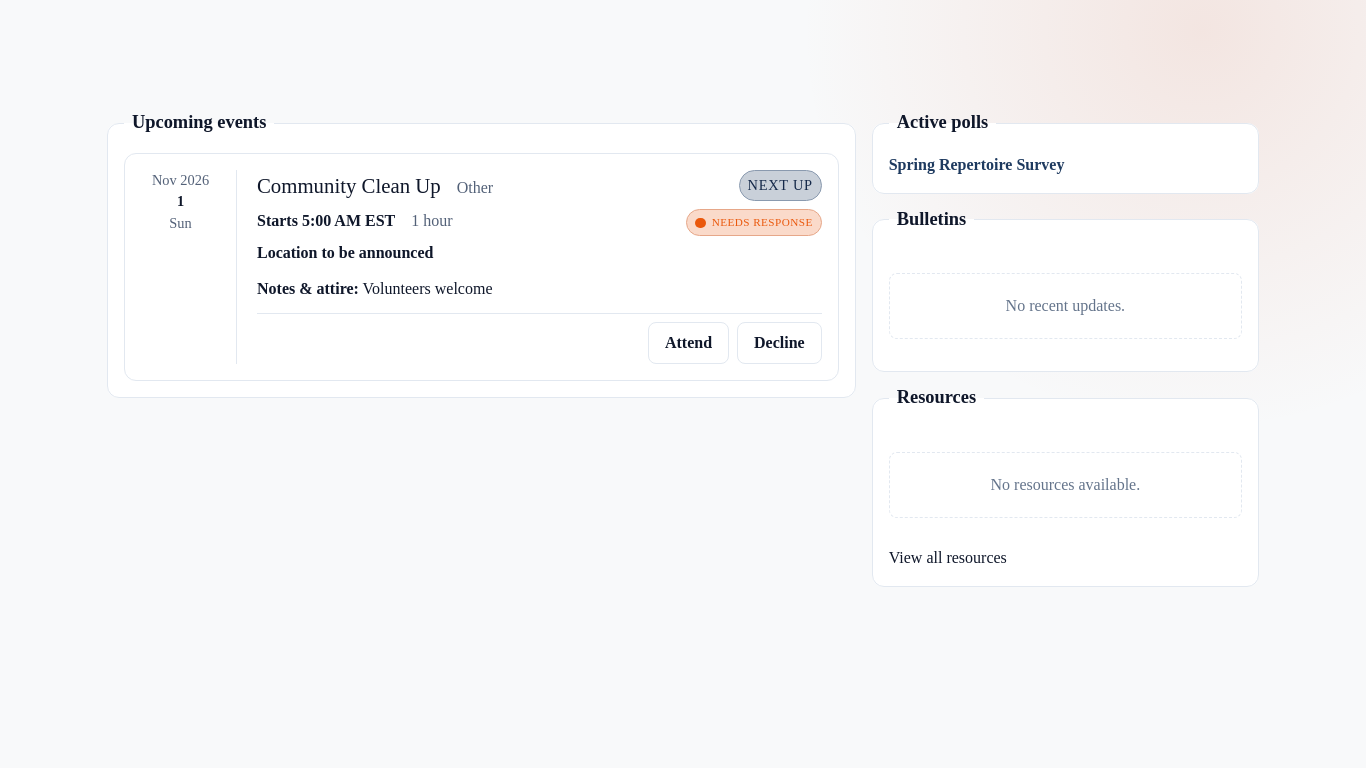
DashboardView › displays server error message when RSVP update fails with AuthApiError
The width and height of the screenshot is (1366, 768).
expect the heading "Community Clean Up" is shown: met, box [257,170,441,201]
Click the button "Attend" at coordinates (689, 343), box [648,322,729,364]
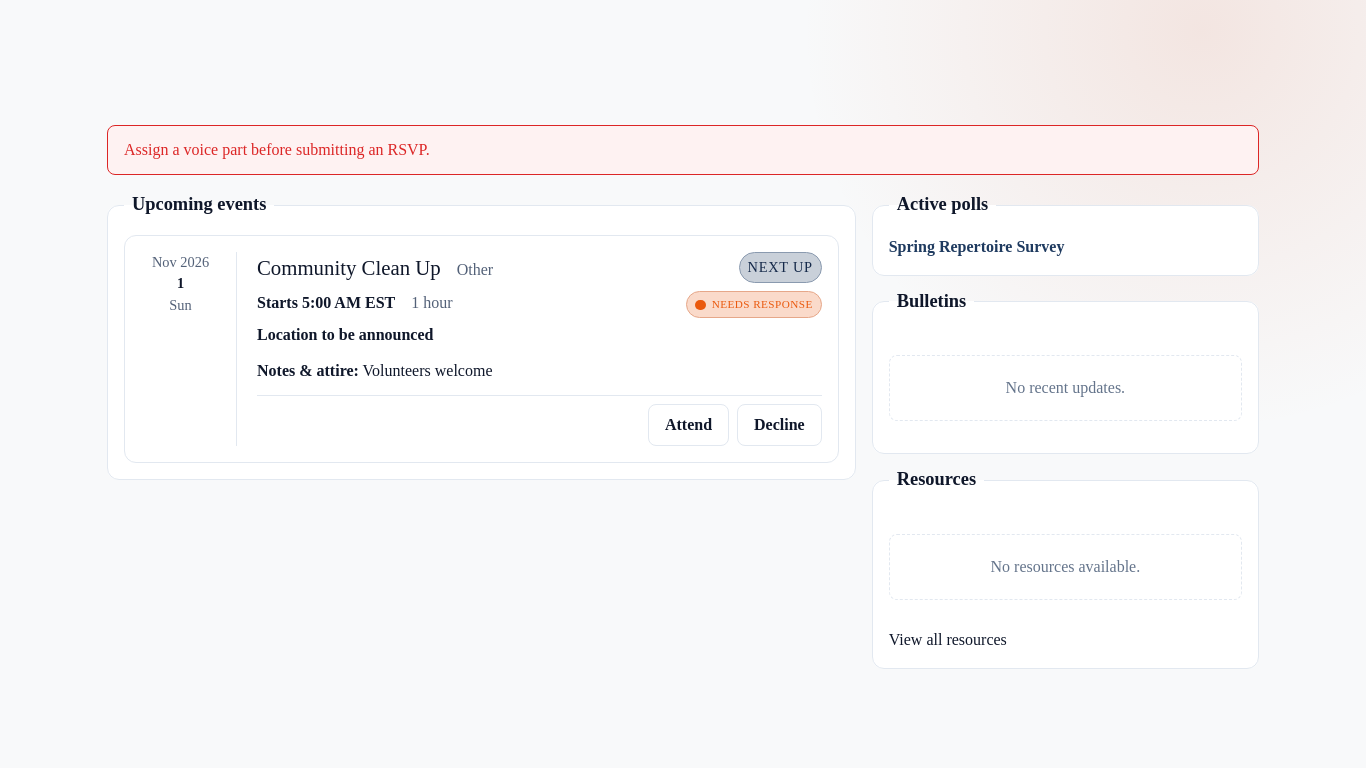
expect the text "Assign a voice part before submitting an RSVP." is shown: met, box [107,125,1259,175]
